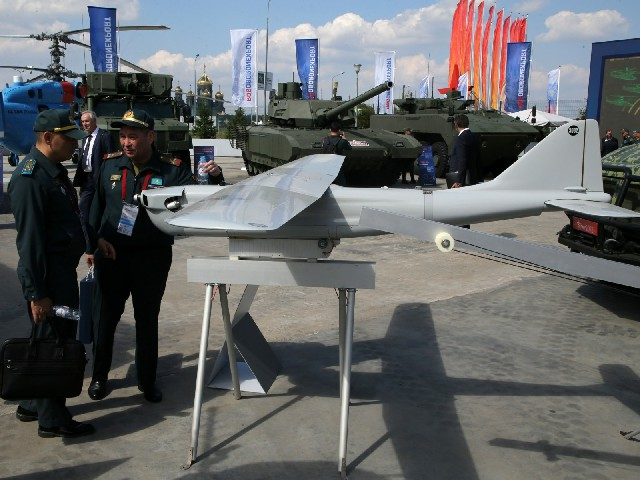maybay_khongnguoilai: (148, 122, 634, 271)
